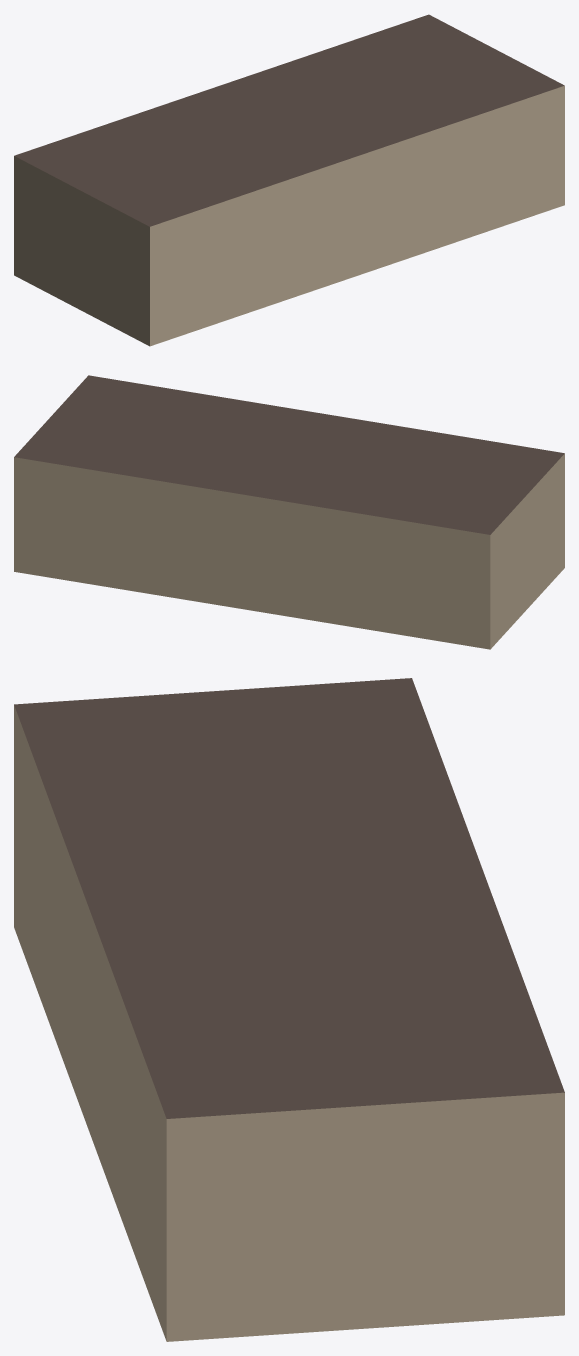
The picture shows the model from 3 angles, top to bottom: view 1: azimuth 30°, elevation 25°; view 2: azimuth 150°, elevation 25°; view 3: azimuth 270°, elevation 25°; orthographic projection. The views are drawn at different scales.
Visible parts, largest first — view 1: HP-w859457394; view 2: HP-w859457394; view 3: HP-w859457394.
Part boxes in pixels (left/top/right/bottom): HP-w859457394: left=14, top=14, right=564, bottom=346; HP-w859457394: left=14, top=375, right=564, bottom=649; HP-w859457394: left=14, top=678, right=564, bottom=1341.
Bounding box in the file's own units: 38.2 × 9 × 20.17.
